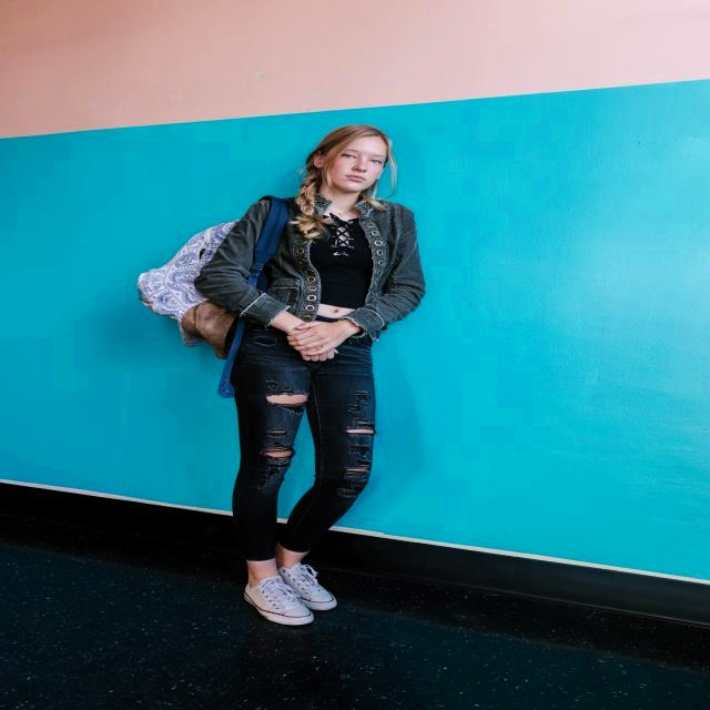Crop_Top: (264, 219, 389, 319)
ripped_pants: (229, 315, 379, 564)
